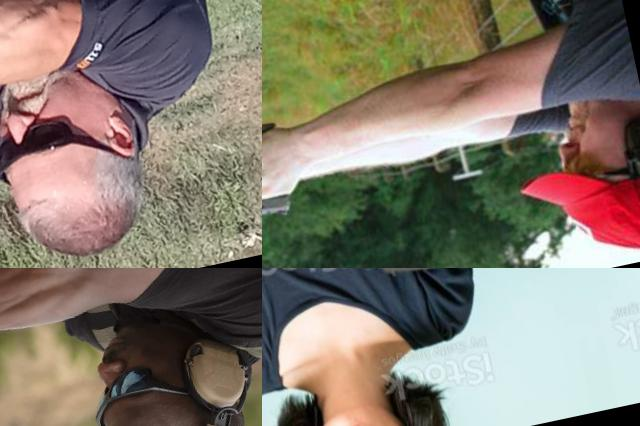handgun: (335, 268, 548, 356), (0, 39, 79, 197), (262, 115, 338, 241), (0, 353, 74, 426)
